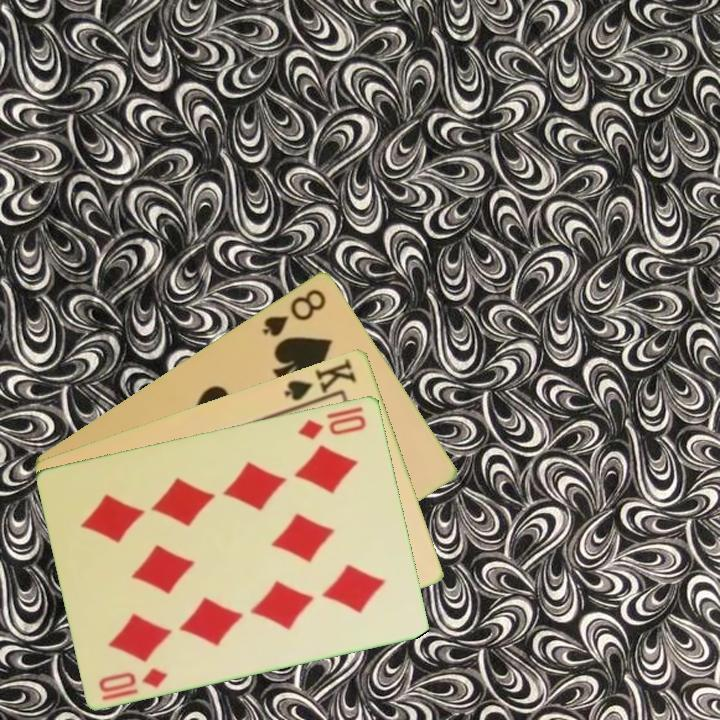10d: (95, 663, 171, 695), (295, 410, 369, 442)
8s: (258, 284, 330, 339)
Ks: (280, 354, 360, 404)
